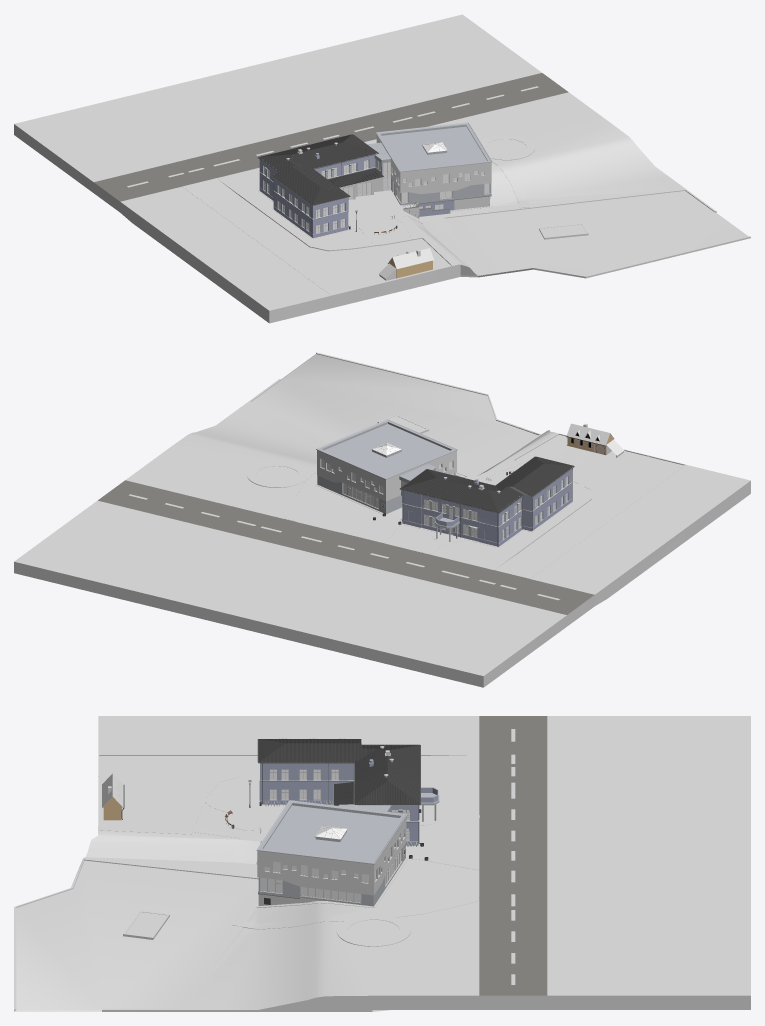
File: ViA_Building_2_8.fbx
3 views of the same model, one above another, from view 1: azimuth 30°, elevation 25°; view 2: azimuth 150°, elevation 25°; view 3: azimuth 270°, elevation 25° (orthographic). The views are drawn at different scales.
Visible parts, largest first — view 1: Ground, Old_Roof, New_2_Wall, New_Roof, Old_2_Wall, New_1_Wall, Old_1_Wall, Old_Outside, Windows_4, Windows_5, Roof_Small, Cube.001; view 2: Ground, Old_Roof, New_2_Wall, New_Roof, Old_2_Wall, Old_1_Wall, Old_Outside, Old_1_Wall.001, Windows_3, New_1_Wall, Windows_7; view 3: Ground, Old_Roof, New_2_Wall, New_Roof, Old_2_Wall, Old_1_Wall, Windows_2, Old_Outside, New_1_Wall, Windows_4, Cube.001.
Part boxes in pixels (x1,y1,x2,y2): Ground: [14, 14, 750, 323]; Old_Roof: [258, 134, 377, 205]; New_2_Wall: [376, 122, 492, 194]; New_Roof: [382, 126, 486, 169]; Old_2_Wall: [259, 153, 375, 222]; New_1_Wall: [340, 178, 491, 205]; Old_1_Wall: [274, 194, 348, 238]; Old_Outside: [257, 134, 378, 236]; Windows_4: [289, 194, 348, 233]; Windows_5: [321, 160, 374, 199]; Roof_Small: [328, 168, 383, 187]; Cube.001: [388, 248, 433, 268]; Ground: [14, 352, 750, 687]; Old_Roof: [400, 456, 573, 512]; New_2_Wall: [316, 419, 457, 501]; New_Roof: [324, 424, 449, 476]; Old_2_Wall: [402, 468, 572, 530]; Old_1_Wall: [402, 485, 572, 536]; Old_Outside: [399, 456, 574, 546]; Old_1_Wall.001: [429, 489, 572, 546]; Windows_3: [320, 459, 383, 509]; New_1_Wall: [317, 472, 455, 514]; Windows_7: [424, 499, 477, 537]; Ground: [14, 716, 750, 1011]; Old_Roof: [258, 739, 420, 804]; New_2_Wall: [256, 800, 407, 895]; New_Roof: [263, 805, 399, 861]; Old_2_Wall: [260, 763, 418, 825]; Old_1_Wall: [260, 785, 418, 845]; Windows_2: [265, 861, 368, 903]; Old_Outside: [257, 739, 420, 843]; New_1_Wall: [258, 843, 405, 906]; Windows_4: [259, 763, 320, 800]; Cube.001: [102, 773, 123, 807].
Size of the model in its own units: 12547 by 1483 by 13970.
